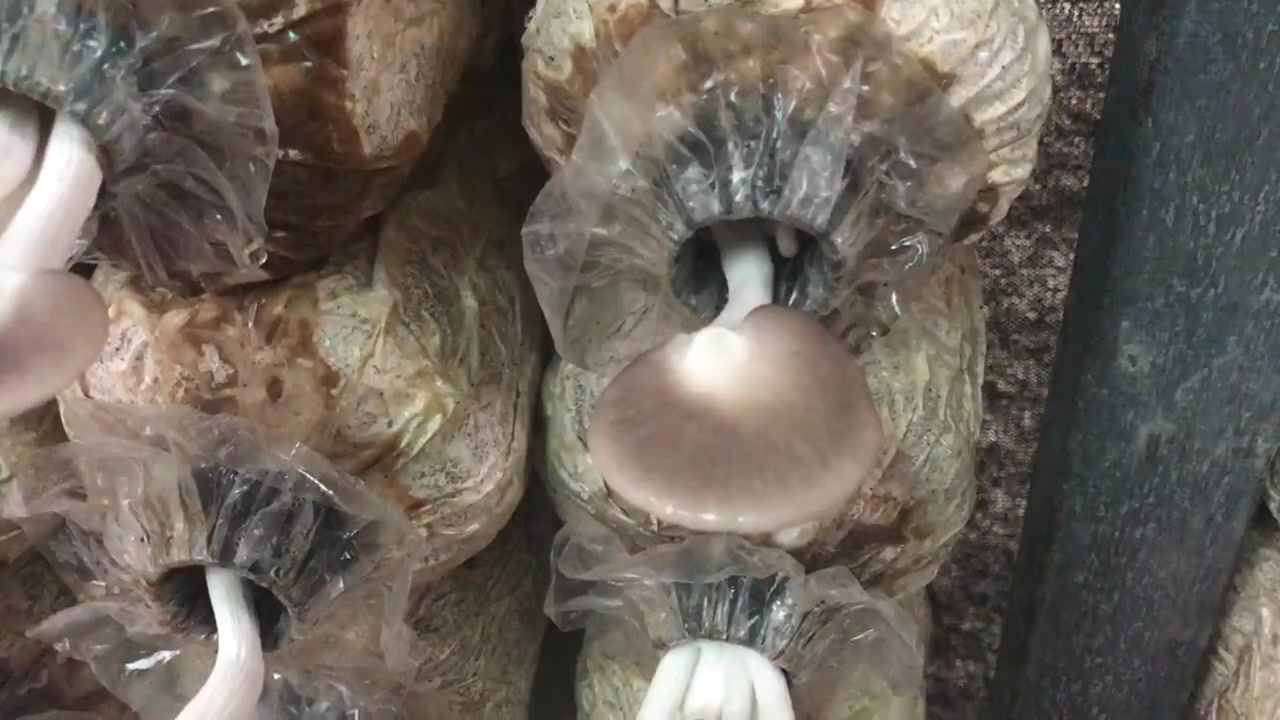nam: (584, 114, 886, 539)
